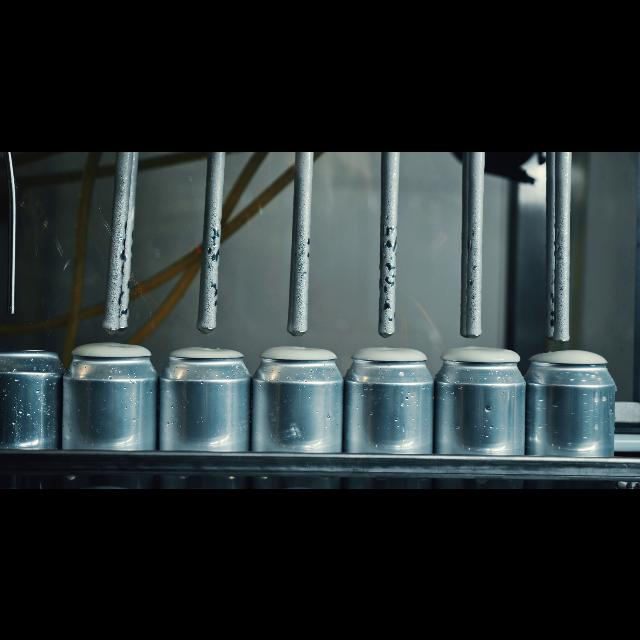empty: (0, 334, 62, 488)
full: (67, 332, 156, 488), (438, 330, 524, 488), (255, 332, 342, 488), (166, 329, 248, 489), (532, 332, 614, 488), (352, 332, 432, 488)
